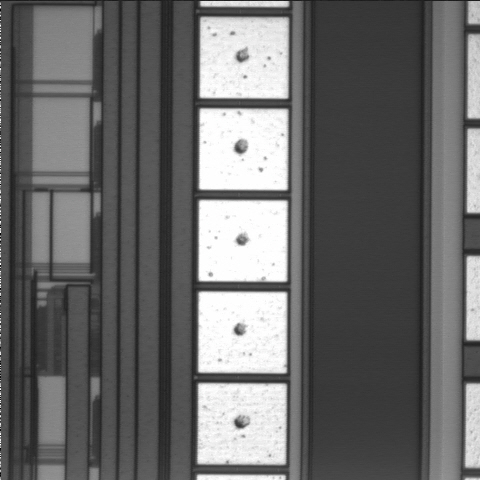pad: (198, 200, 288, 282), (197, 383, 287, 465), (200, 17, 289, 99), (199, 109, 288, 190), (198, 292, 287, 373)
